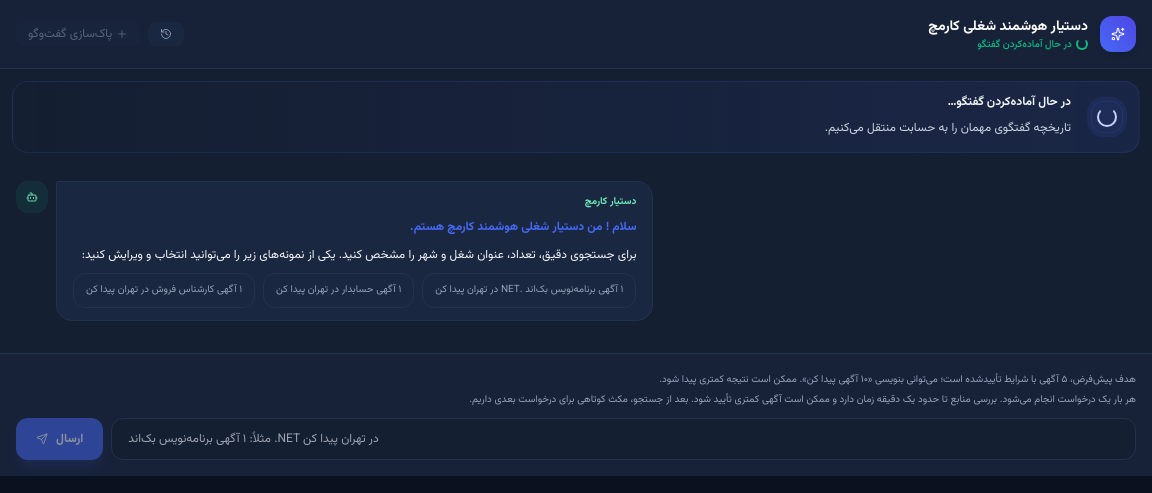
Test: Chat composer › preserves a draft and displays an error after a failed send
Type "Backend" into the field named "پیام شما" at (624, 438), box x1=111 y1=418 x2=1136 y2=460
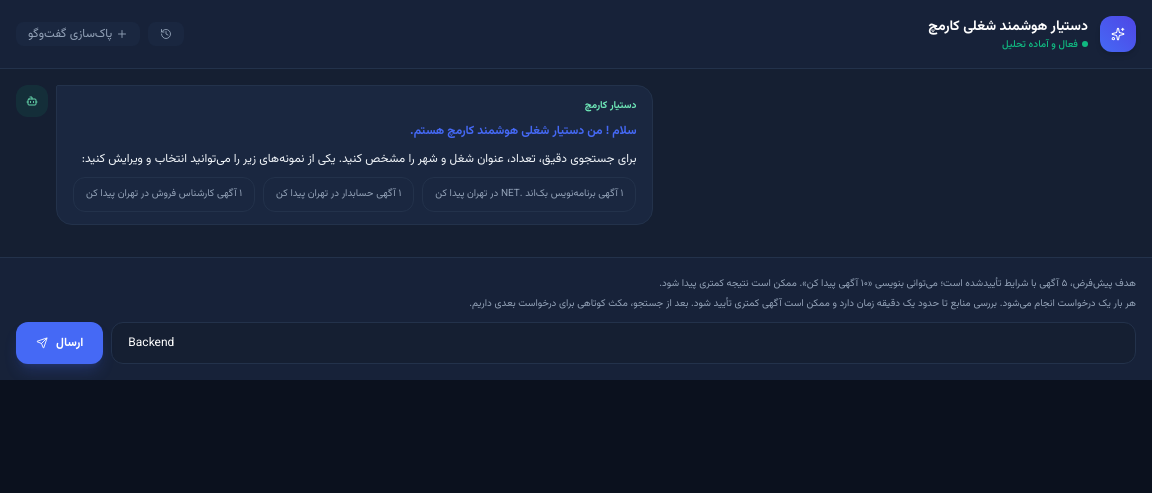
Click the button with aria-label "ارسال پیام" at (60, 342), box x1=16 y1=322 x2=103 y2=364
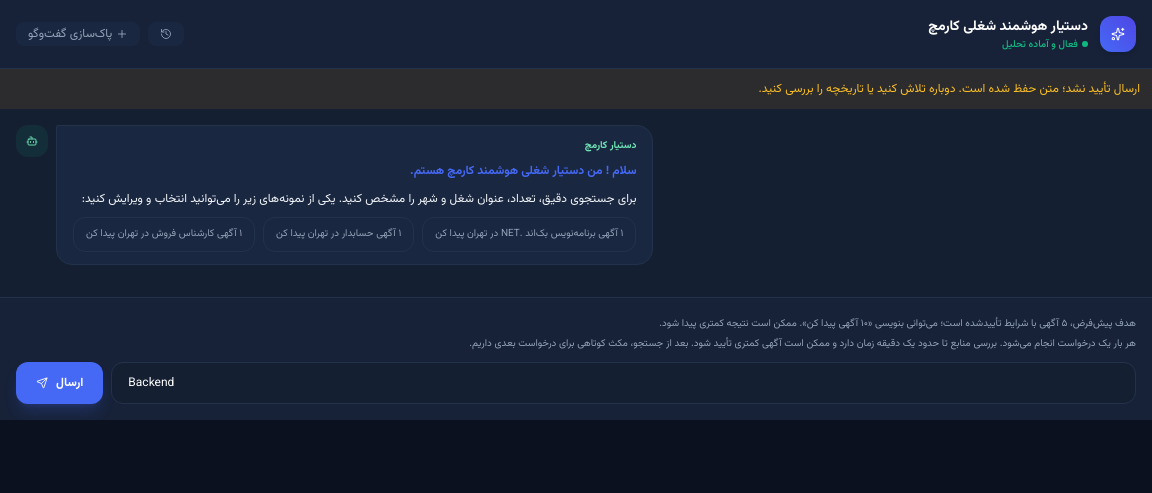
Expected: the message "ارسال تأیید نشد؛ متن حفظ شده است. دوباره تلاش کنید یا تاریخچه را بررسی کنید." is shown, x1=0 y1=69 x2=1151 y2=109
